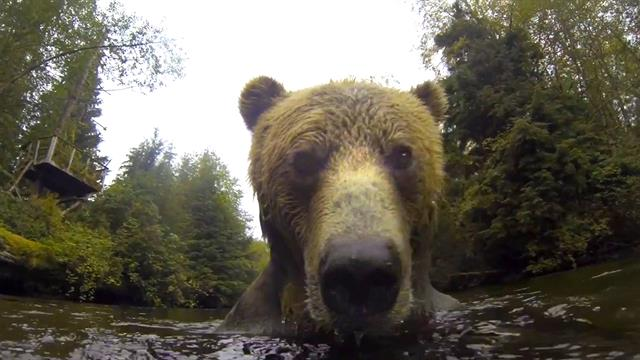bear: (235, 71, 453, 332)
